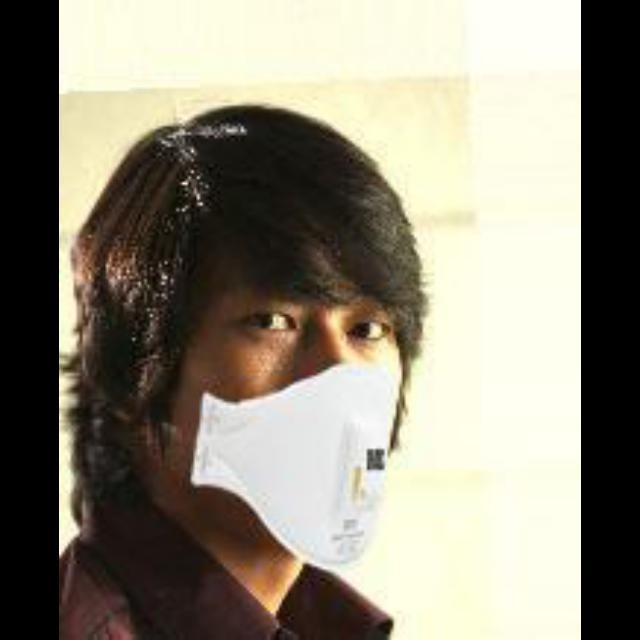suspicion: (148, 135, 422, 551)
